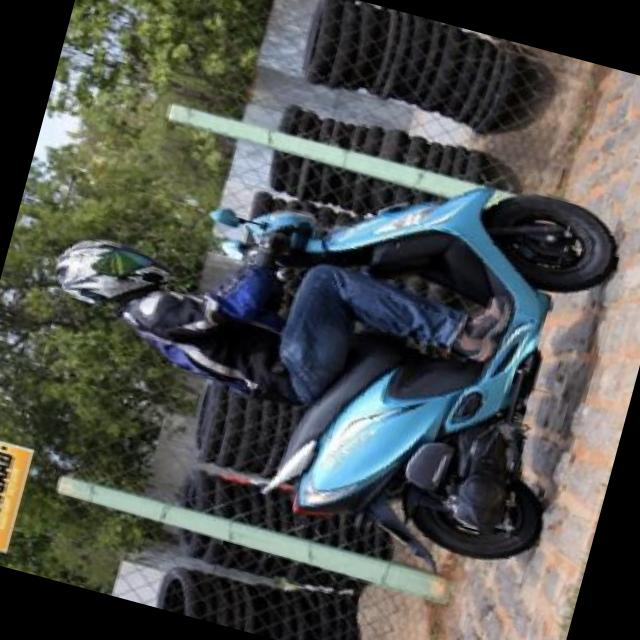With Helmet: (45, 219, 189, 327)
